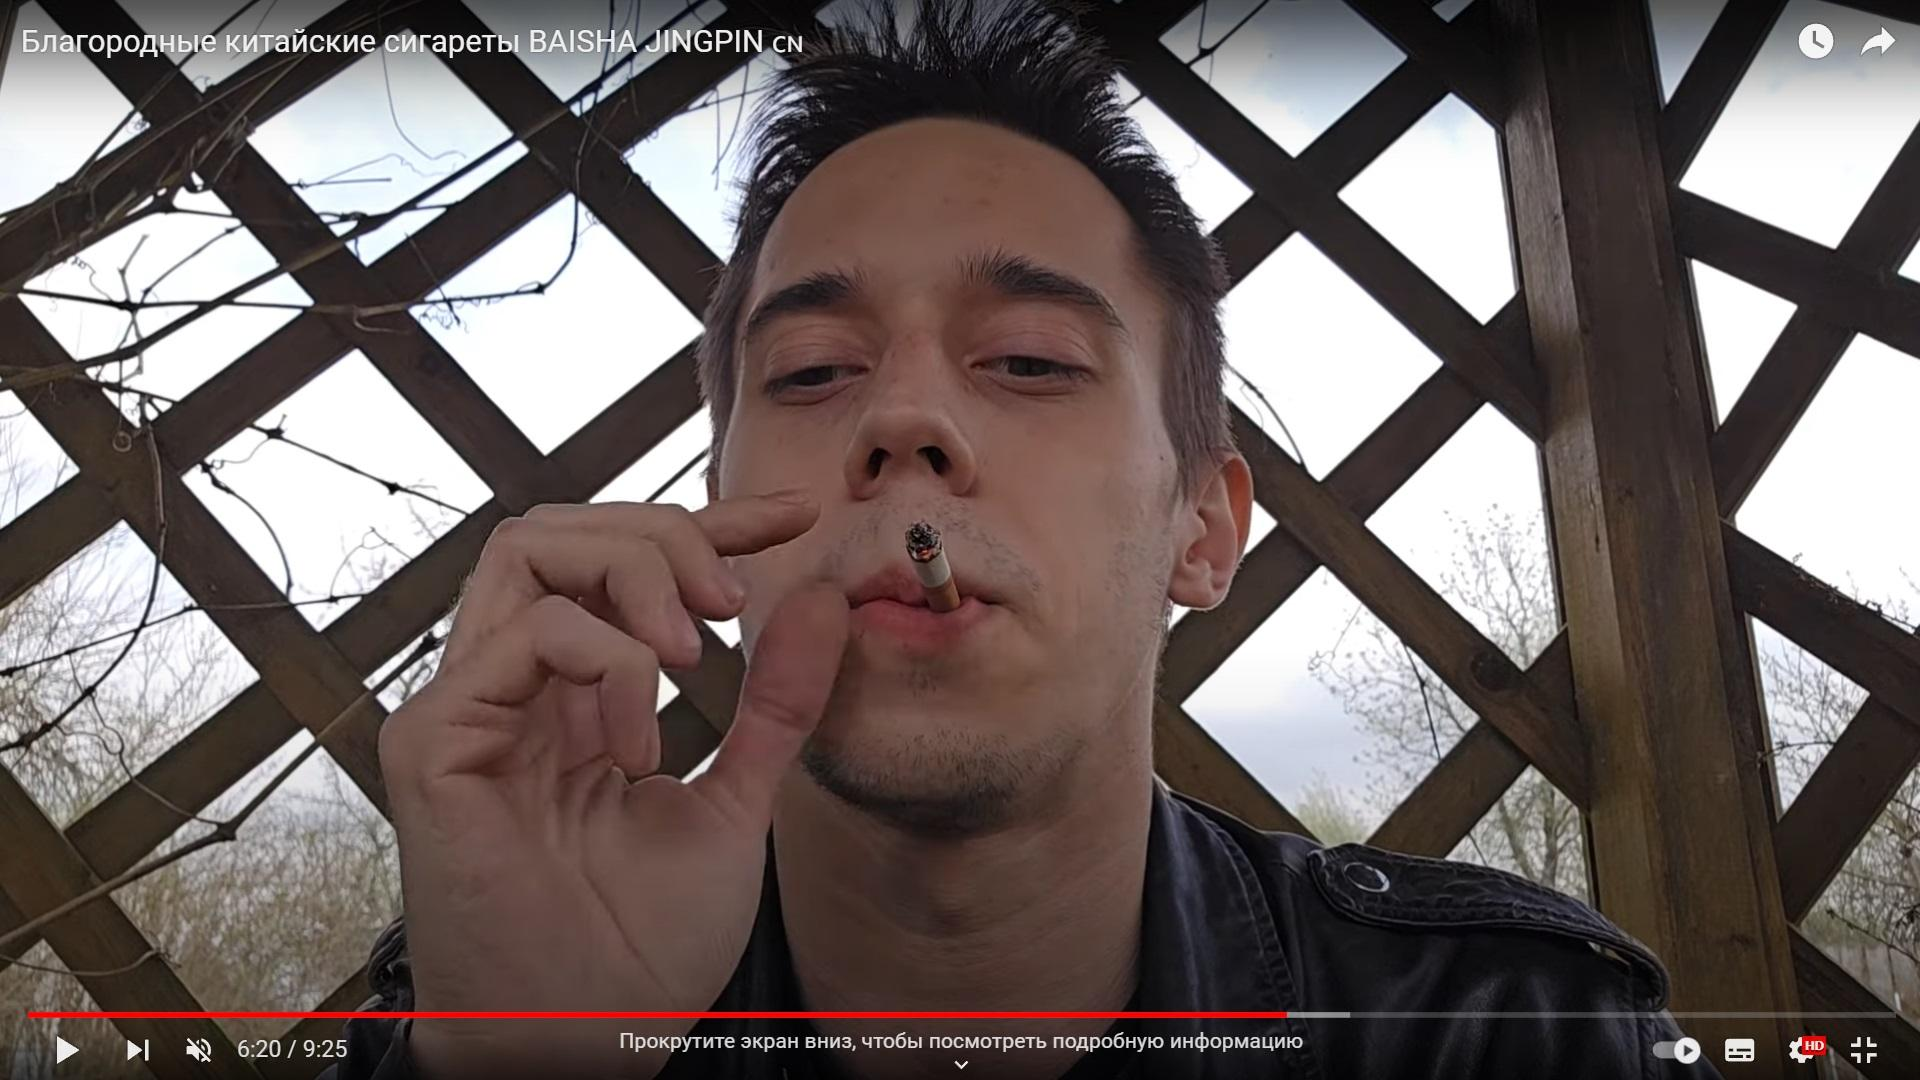cigarette: (903, 518, 961, 613)
